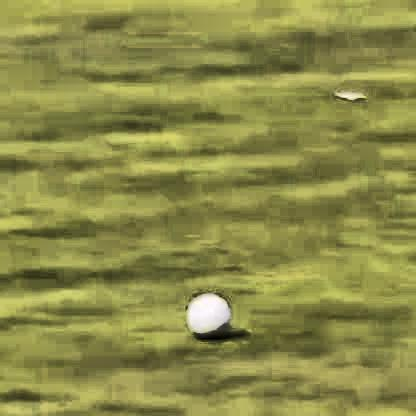golfball: (184, 290, 229, 338)
